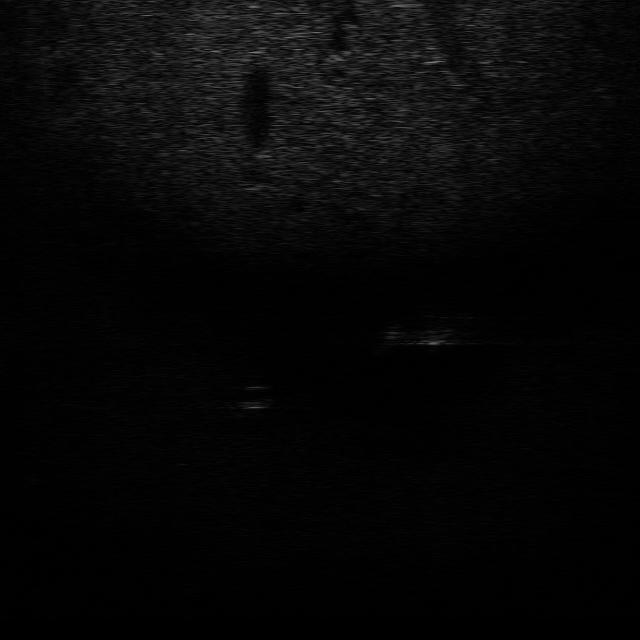ball: (226, 379, 276, 411)
human body: (371, 309, 484, 356)
